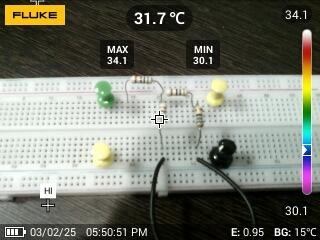resistor: (156, 99, 168, 130), (127, 74, 155, 87), (162, 85, 190, 98), (193, 102, 206, 129)
